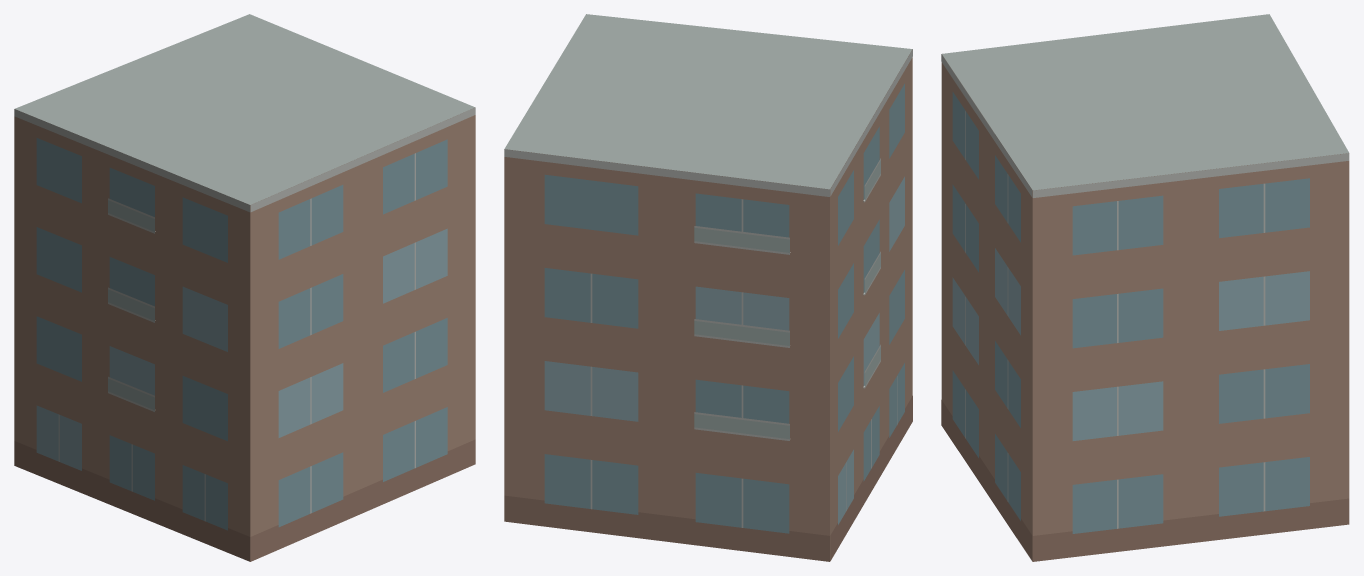
Rendered from survey-upis-32462419.glb.
3 views of the same model, side by side, from view 1: azimuth 30°, elevation 25°; view 2: azimuth 150°, elevation 25°; view 3: azimuth 270°, elevation 25° (orthographic). The views are drawn at different scales.
Visible parts, largest first — view 1: survey-upis-32462419.tmp; view 2: survey-upis-32462419.tmp; view 3: survey-upis-32462419.tmp.
Part boxes in pixels (left/top/right/bottom): survey-upis-32462419.tmp: left=14, top=14, right=475, bottom=561; survey-upis-32462419.tmp: left=504, top=14, right=912, bottom=561; survey-upis-32462419.tmp: left=941, top=14, right=1349, bottom=561.
Bounding box in the file's own units: 11.93 × 11.7 × 11.66.
